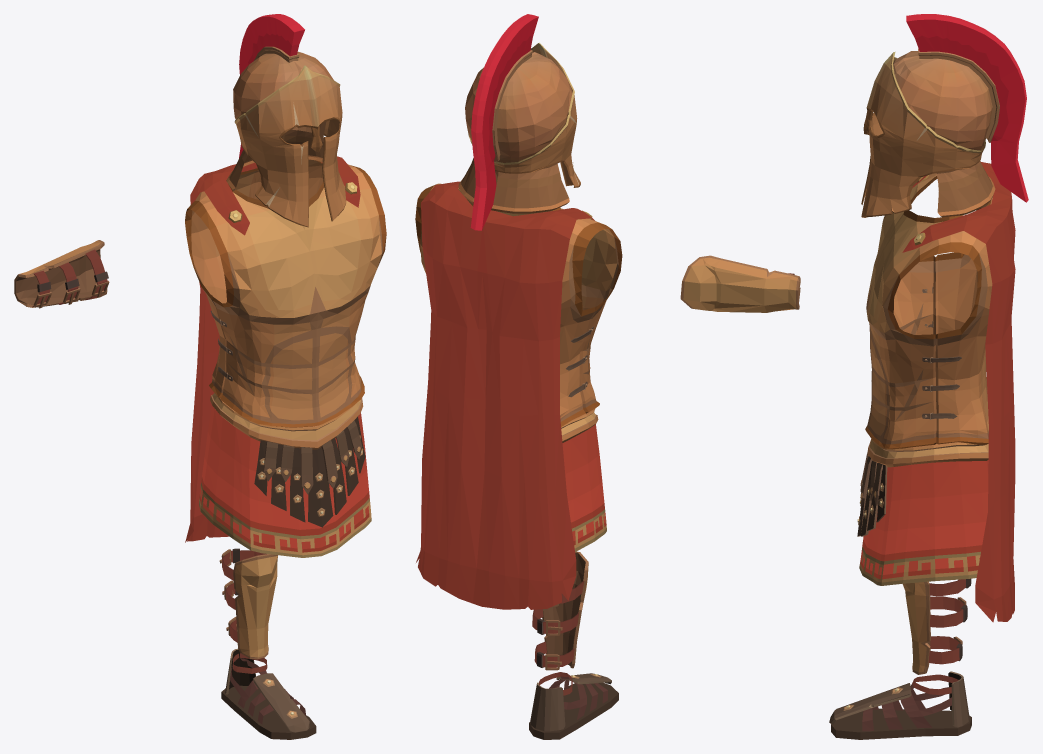
Rendered from spartanArmor.glb.
3 renders of one model, left to right at view 1: azimuth 30°, elevation 25°; view 2: azimuth 150°, elevation 25°; view 3: azimuth 270°, elevation 25°, orthographic. The views are drawn at different scales.
Visible parts, largest first — view 1: spartanArmorBody, spartanArmorSkirt, spartanArmorHelmet, spartanSandleFootLeg, spartanArmorLegArmor, spartanArmorArmArmor; view 2: spartanArmorBody, spartanArmorHelmet, spartanArmorArmArmor, spartanArmorSkirt, spartanSandleFootLeg, spartanArmorLegArmor; view 3: spartanArmorBody, spartanArmorHelmet, spartanArmorSkirt, spartanSandleFootLeg, spartanArmorLegArmor.
Boxes of the visible parts, x1,y1,x2,y2 form: spartanArmorBody: [185, 156, 386, 542]; spartanArmorSkirt: [199, 393, 371, 557]; spartanArmorHelmet: [227, 14, 346, 227]; spartanSandleFootLeg: [221, 648, 316, 739]; spartanArmorLegArmor: [219, 548, 277, 659]; spartanArmorArmArmor: [14, 240, 109, 308]; spartanArmorBody: [415, 181, 622, 609]; spartanArmorHelmet: [458, 14, 580, 230]; spartanArmorArmArmor: [680, 255, 800, 312]; spartanArmorSkirt: [561, 408, 606, 551]; spartanSandleFootLeg: [529, 672, 618, 739]; spartanArmorLegArmor: [532, 551, 588, 670]; spartanArmorBody: [865, 162, 1015, 622]; spartanArmorHelmet: [861, 14, 1028, 217]; spartanArmorSkirt: [857, 439, 988, 585]; spartanSandleFootLeg: [829, 671, 971, 739]; spartanArmorLegArmor: [902, 578, 971, 674].
Size of the model in its own units: 1.15 by 2.08 by 0.5149.
